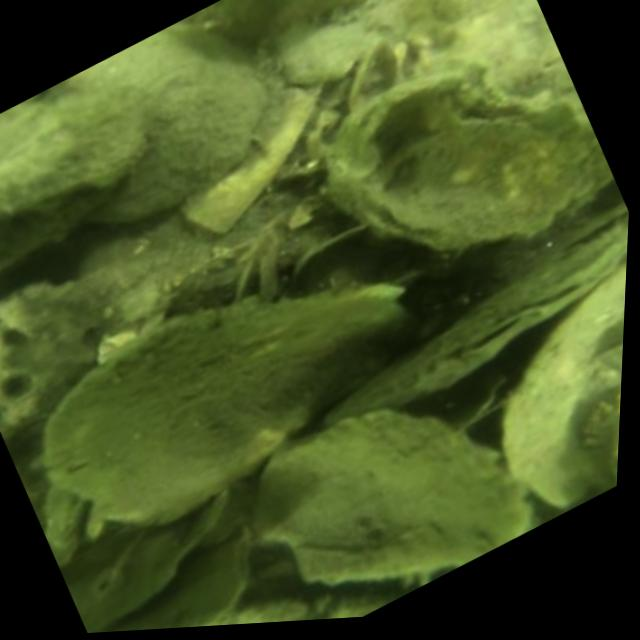Oyster-Closed: (320, 206, 629, 428)
Oyster-Indeterminate: (41, 284, 424, 527), (250, 404, 538, 586), (27, 17, 275, 226), (494, 259, 627, 512), (61, 494, 232, 633), (0, 99, 148, 225), (122, 524, 271, 631), (197, 0, 360, 43)
